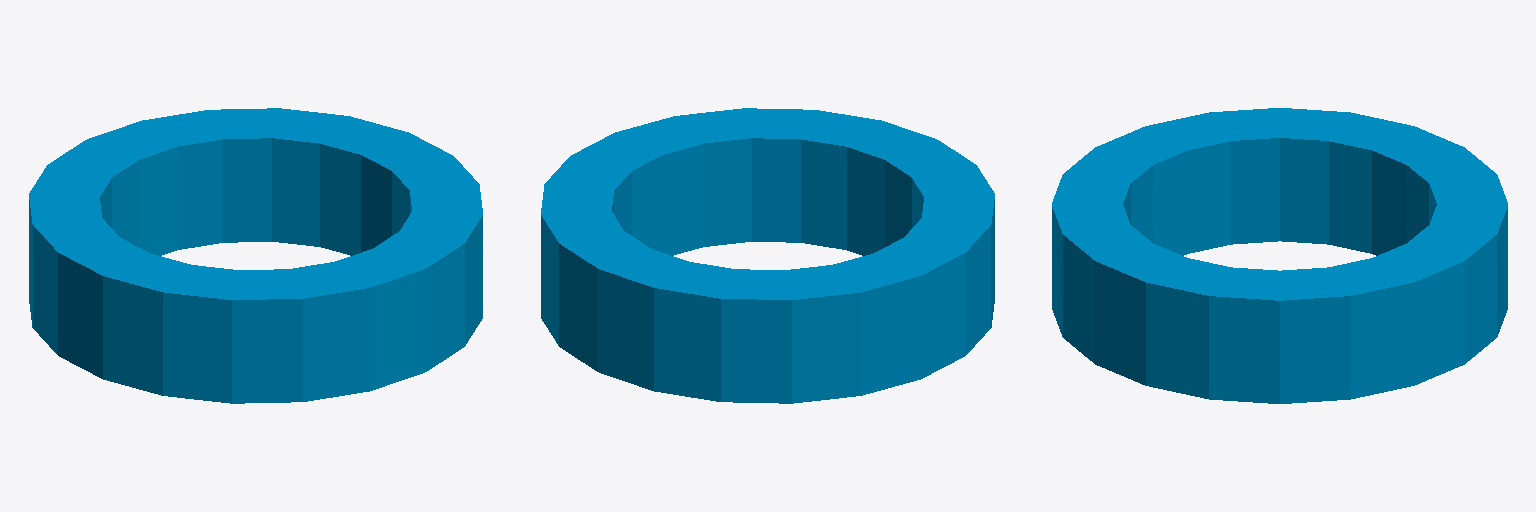
Rendered from CementGrow_06-UV.obj.
3 views of the same model, side by side, from view 1: azimuth 30°, elevation 25°; view 2: azimuth 150°, elevation 25°; view 3: azimuth 270°, elevation 25° (orthographic).
Parts seen in each view (by area): view 1: obj_0; view 2: obj_0; view 3: obj_0.
Boxes of the visible parts, x1,y1,x2,y2 form: obj_0: [29, 108, 482, 403]; obj_0: [541, 108, 994, 403]; obj_0: [1052, 108, 1507, 403].
Bounding box in the file's own units: 1.1 × 0.2756 × 1.1.